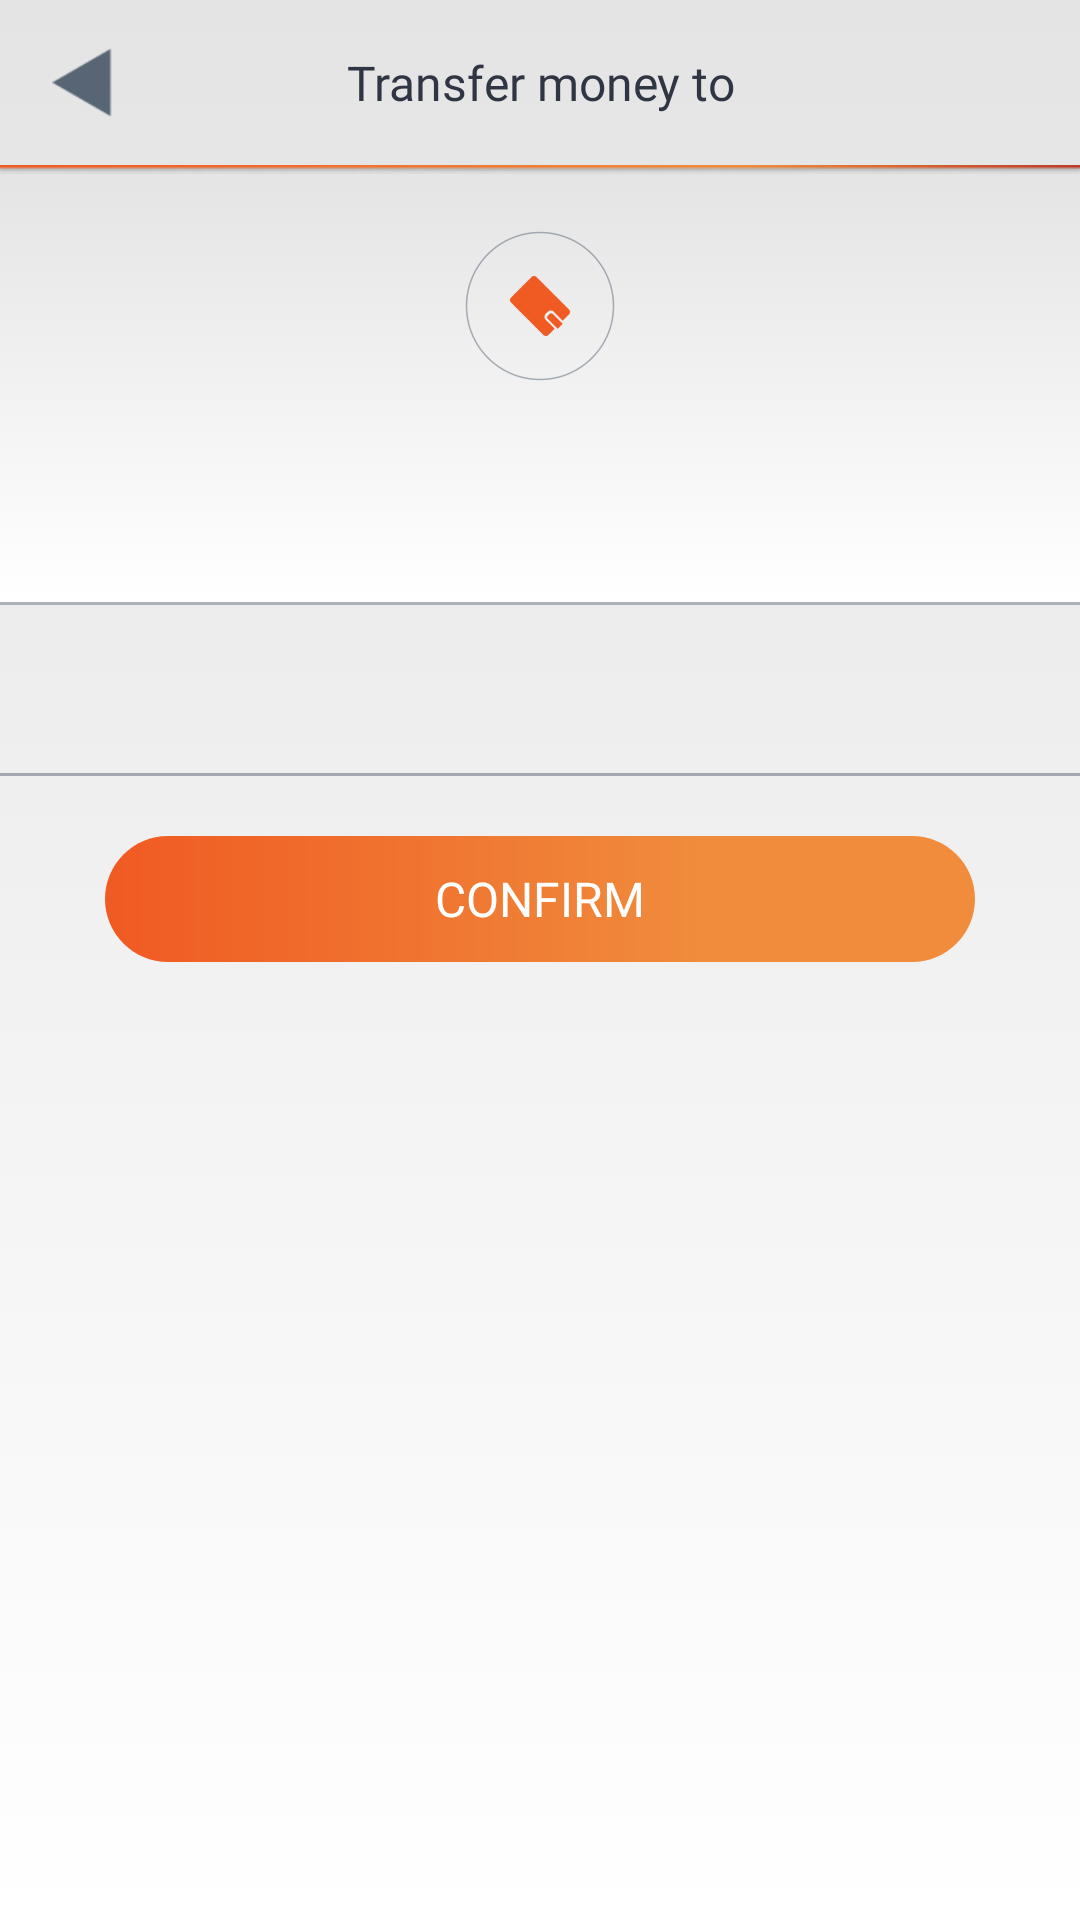

Icons on this 1080×1920 Android screen, each with its box as bbox=(x1, y1, x2, y2):
setting back: bbox=(52, 49, 111, 116)
